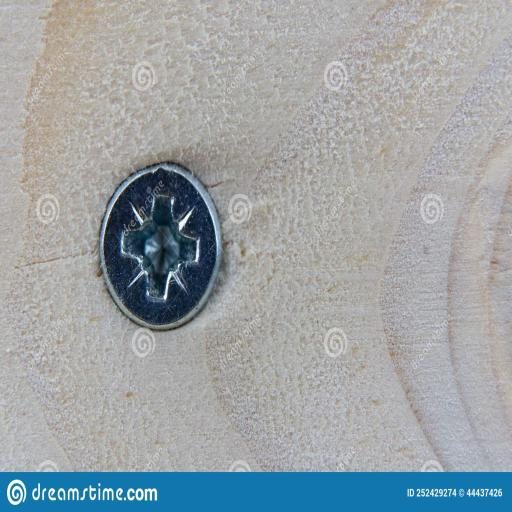Phillips: (103, 159, 223, 332)
